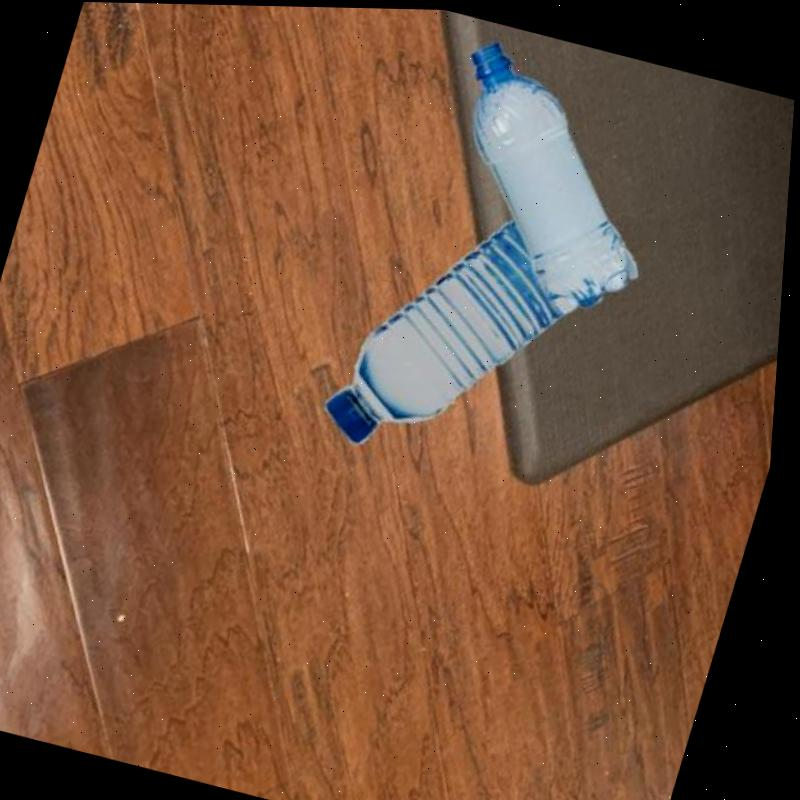botella: (318, 184, 615, 488), (407, 31, 696, 330)
